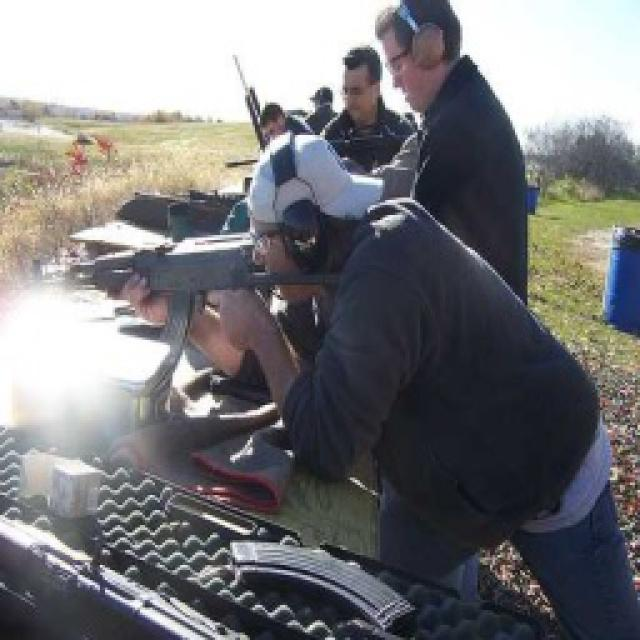long weapon: (30, 228, 256, 381)
